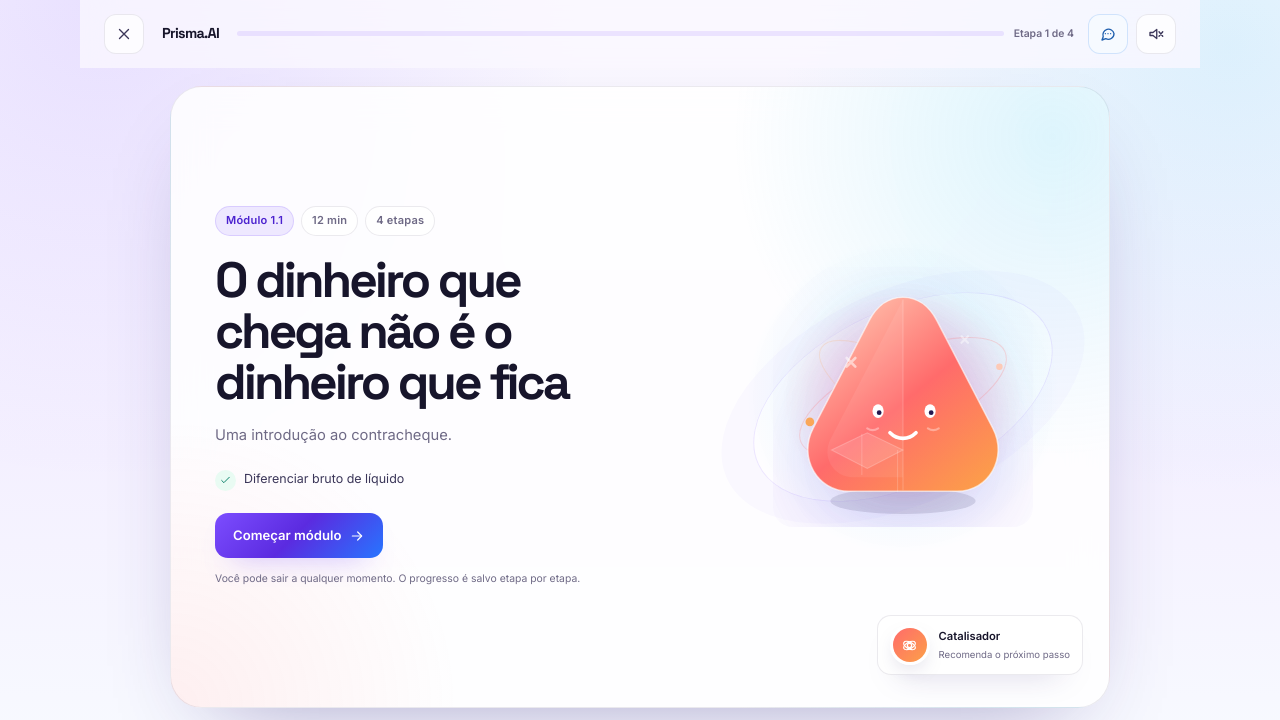
LessonPlayerPage › reloads the lesson after starting so the drawn question set is used
What coordinates should you click on to do the following:
click the button "Começar módulo"
I would click on:
 (299, 536)
Its box is [215,513,383,558].
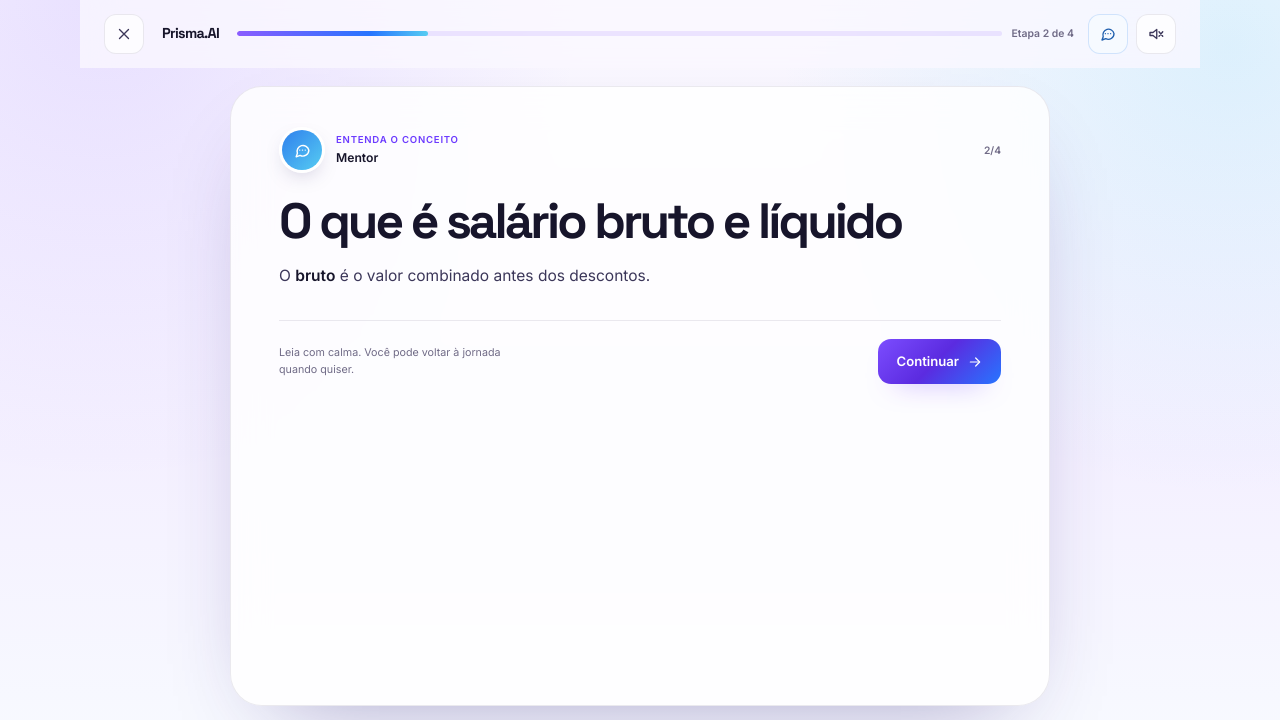
What coordinates should you click on to do the following:
click the button "Continuar"
I would click on:
 (940, 362)
Its box is [878,339,1001,384].
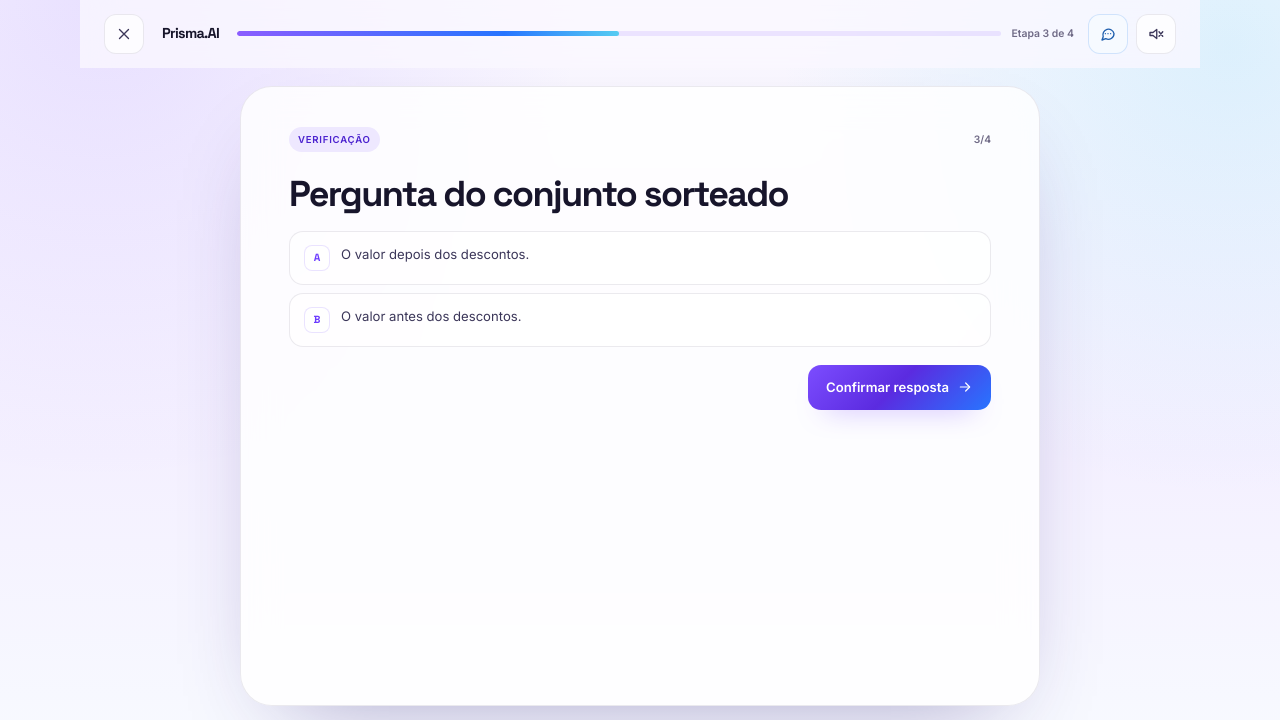
Result: the heading "Pergunta do conjunto sorteado" is shown at [289,171,788,217]
